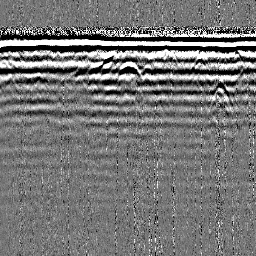cavity: (117, 60, 140, 76)
